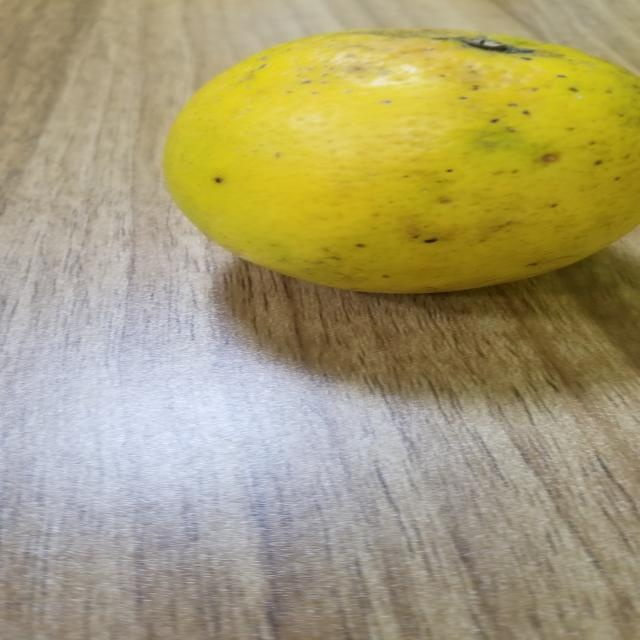agrume: (150, 25, 640, 305)
